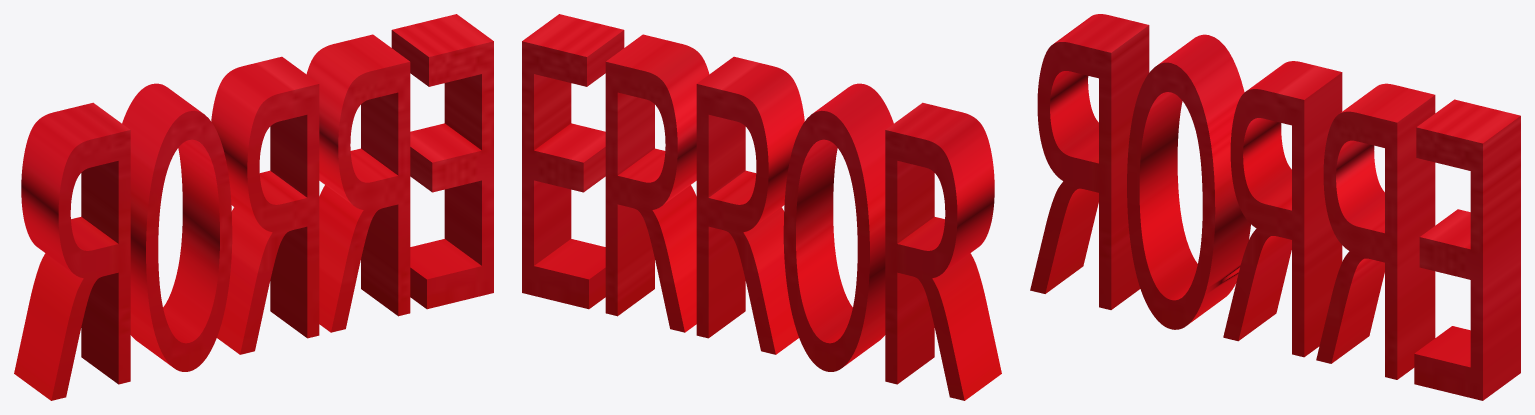
Rendered from error.fbx.
The picture shows the model from 3 angles, left to right: view 1: azimuth 30°, elevation 25°; view 2: azimuth 150°, elevation 25°; view 3: azimuth 330°, elevation 25°; orthographic projection. The views are drawn at different scales.
Parts seen in each view (by area): view 1: error.mdl/waypoint; view 2: error.mdl/waypoint; view 3: error.mdl/waypoint.
Part boxes in pixels (<box>): error.mdl/waypoint: <box>14,14,493,400</box>; error.mdl/waypoint: <box>522,14,1001,400</box>; error.mdl/waypoint: <box>1030,14,1520,400</box>.
Size of the model in its own units: 826 by 464 by 120.
Materials: 1 (1 with a texture image).
